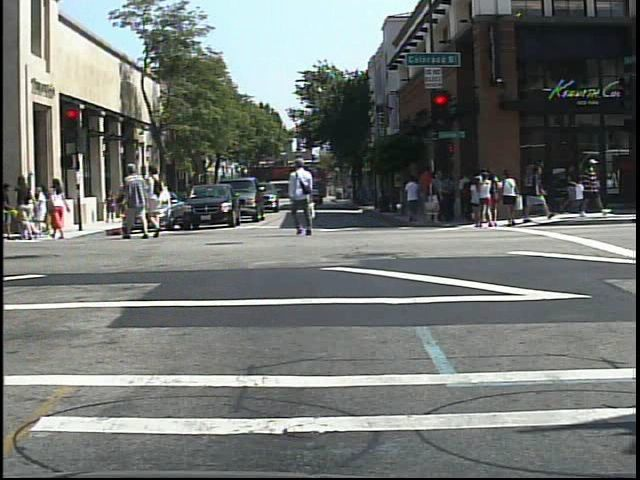person: (286, 155, 320, 241), (120, 160, 149, 241), (576, 155, 610, 219), (13, 170, 40, 247), (47, 174, 74, 244), (146, 163, 167, 238), (470, 174, 486, 232)
